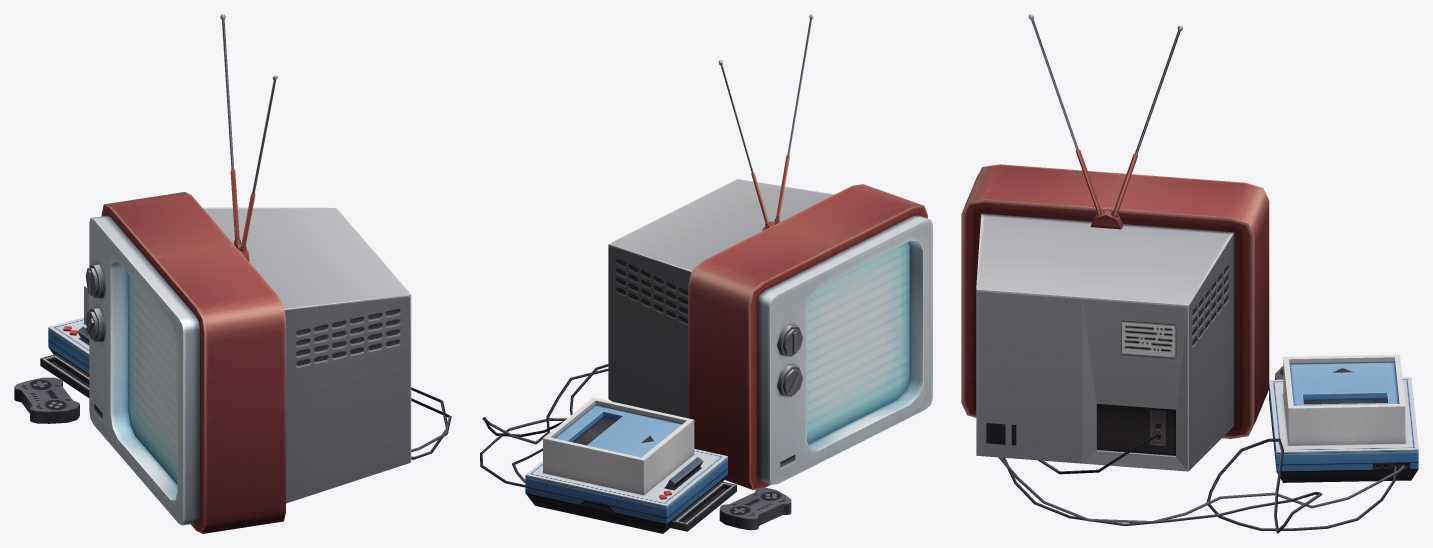
Rendered from my_gamedevdept_01_monitor_01.glb.
The picture shows the model from 3 angles, left to right: view 1: azimuth 30°, elevation 25°; view 2: azimuth 150°, elevation 25°; view 3: azimuth 270°, elevation 25°; orthographic projection. The views are drawn at different scales.
Parts seen in each view (by area): view 1: my_gamedevdept_01_monitor_01; view 2: my_gamedevdept_01_monitor_01; view 3: my_gamedevdept_01_monitor_01.
Boxes of the visible parts, x1,y1,x2,y2 form: my_gamedevdept_01_monitor_01: (14,14,451,533); my_gamedevdept_01_monitor_01: (480,14,932,533); my_gamedevdept_01_monitor_01: (961,14,1418,533).
Size of the model in its own units: 0.00586 by 0.00704 by 0.007.
Materials: 2 (2 with a texture image).
